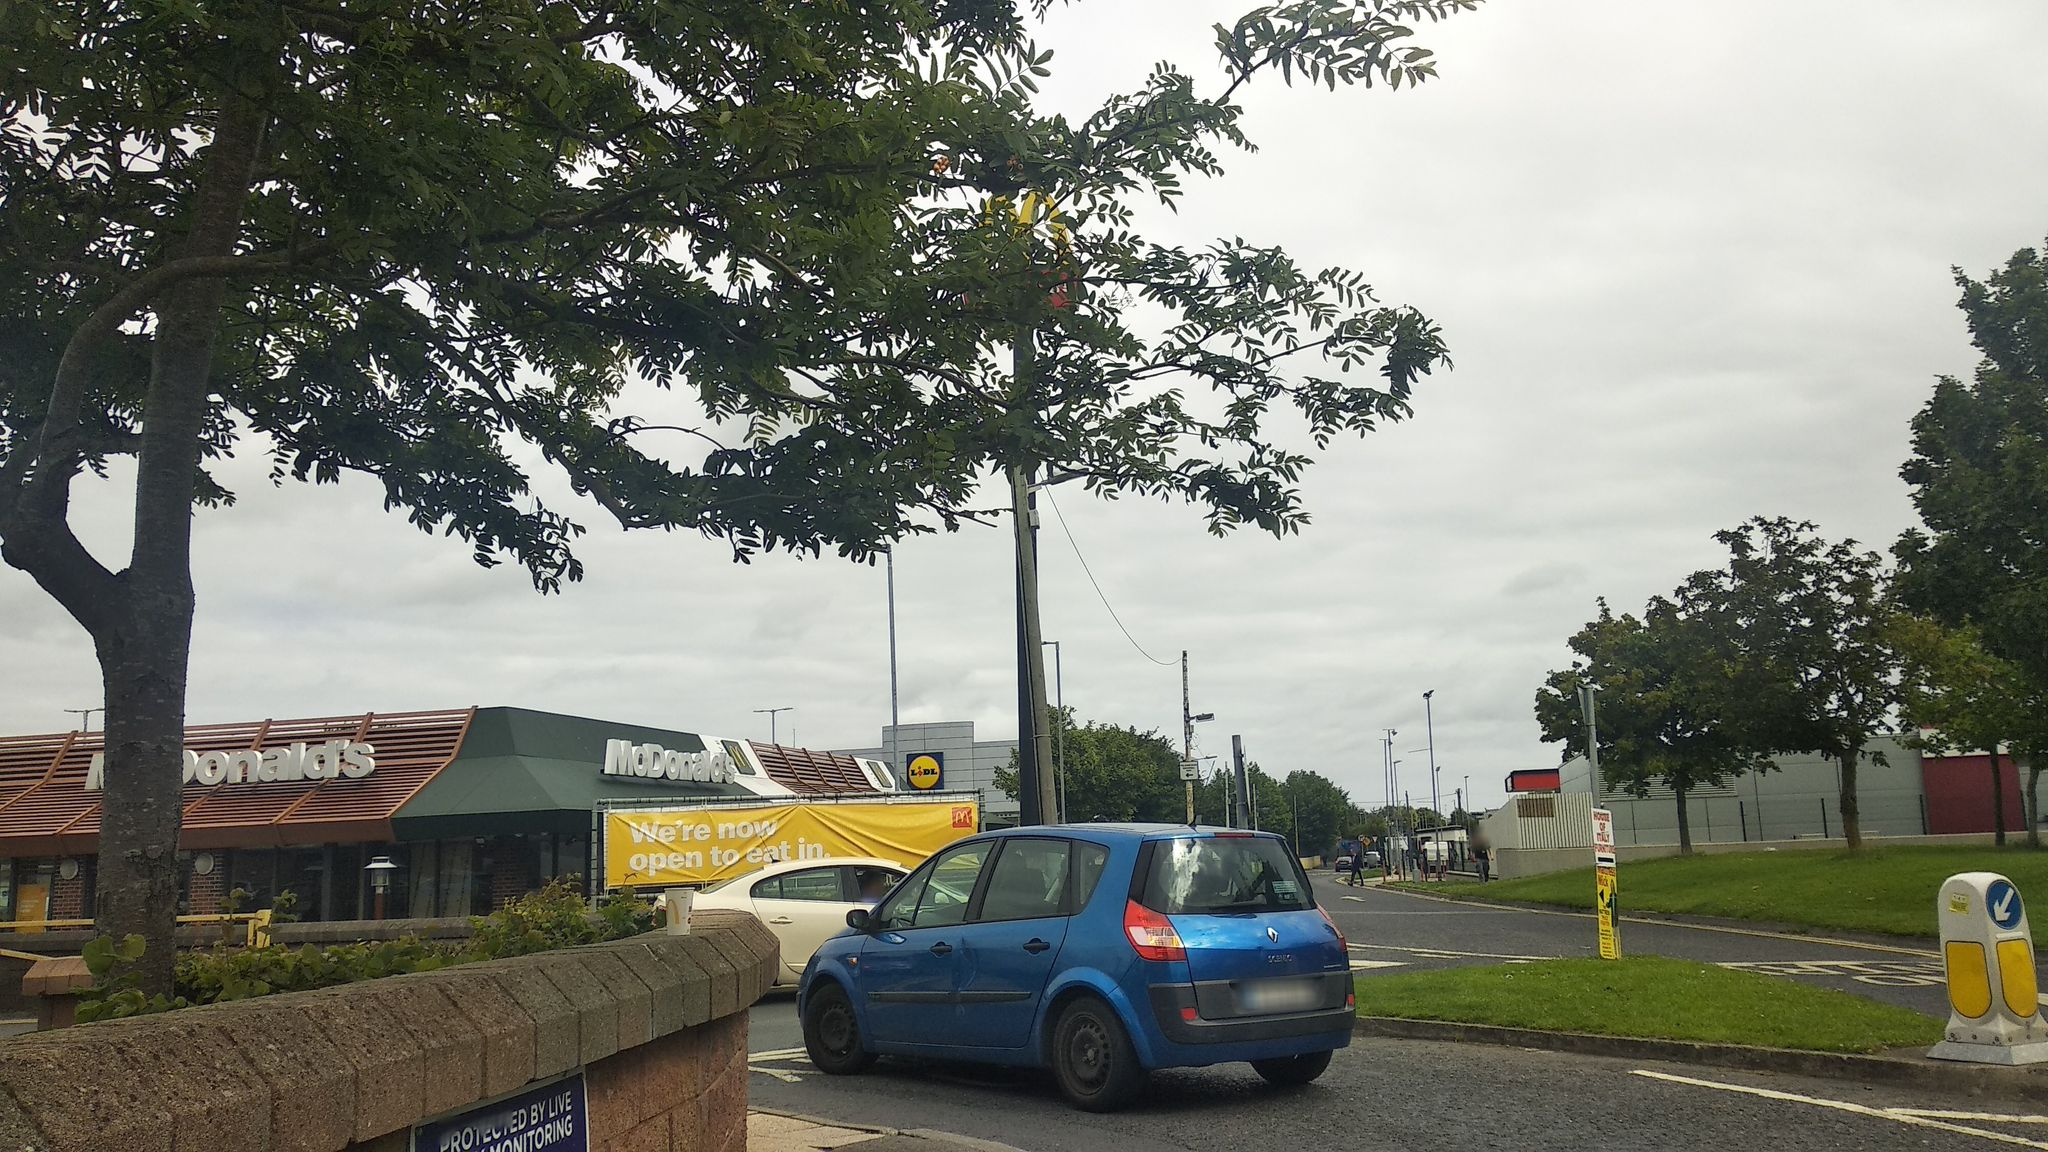vinyl banner: (591, 783, 990, 882)
